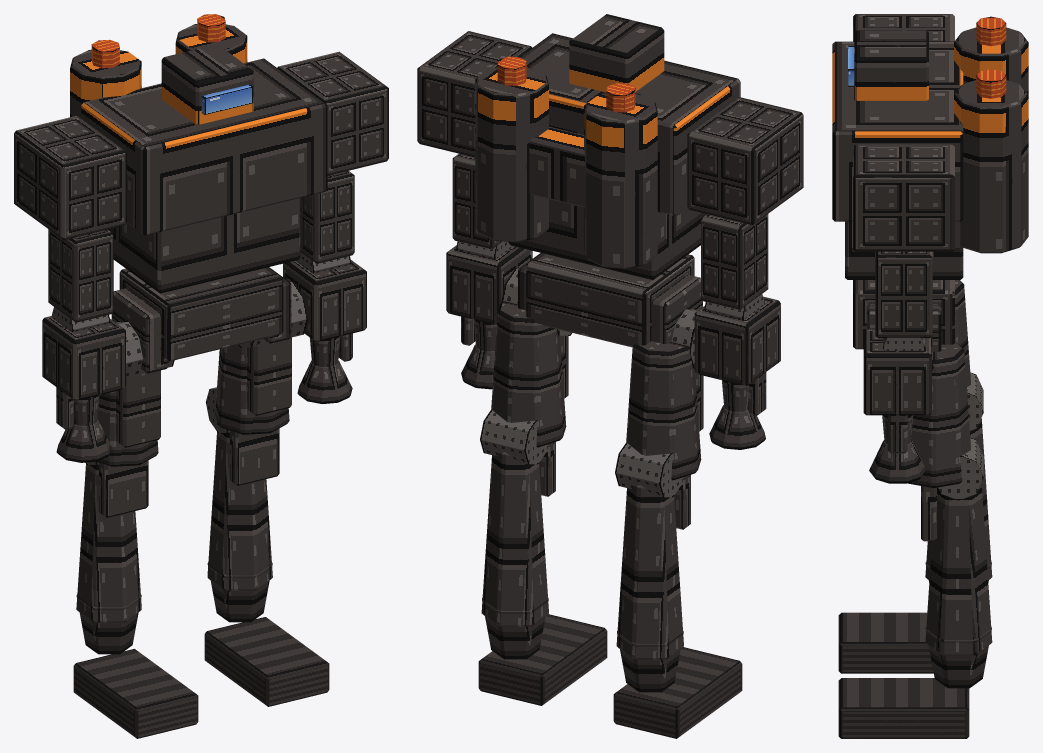
Rendered from mech_flamethrower.glb.
3 renders of one model, left to right at view 1: azimuth 30°, elevation 25°; view 2: azimuth 150°, elevation 25°; view 3: azimuth 270°, elevation 25°, orthographic. The views are drawn at different scales.
Visible parts, largest first — view 1: Torso-head, root_Pelvis, R_shoulder, R_shin, L_shin, R_forearm, L_shoulder, L_forearm, L_foot, R_foot, L_thigh, R_upper_arm (+7 smaller); view 2: Torso-head, root_Pelvis, R_shoulder, R_shin, L_shin, R_forearm, R_thigh, L_thigh, L_shoulder, L_foot, R_foot, L_forearm (+7 smaller); view 3: Torso-head, L_shin, L_shoulder, L_foot, L_forearm, L_thigh, R_foot, L_upper_arm, root_Pelvis, R_shoulder, fl_caps, L_back_knee (+4 smaller).
Part boxes in pixels (left/top/right/bottom): Torso-head: left=70, top=24, right=327, bottom=293; root_Pelvis: left=111, top=267, right=291, bottom=373; R_shoulder: left=14, top=115, right=126, bottom=239; R_shin: left=76, top=460, right=148, bottom=654; L_shin: left=207, top=428, right=279, bottom=622; R_forearm: left=42, top=316, right=125, bottom=462; L_shoulder: left=277, top=51, right=388, bottom=175; L_forearm: left=283, top=260, right=366, bottom=403; L_foot: left=204, top=617, right=329, bottom=706; R_foot: left=73, top=649, right=198, bottom=738; L_thigh: left=215, top=337, right=291, bottom=434; R_upper_arm: left=48, top=229, right=113, bottom=322; Torso-head: left=475, top=14, right=740, bottom=279; root_Pelvis: left=518, top=253, right=702, bottom=347; R_shoulder: left=687, top=97, right=803, bottom=225; R_shin: left=616, top=475, right=690, bottom=692; L_shin: left=481, top=442, right=555, bottom=659; R_forearm: left=694, top=296, right=780, bottom=449; R_thigh: left=626, top=341, right=703, bottom=480; L_thigh: left=491, top=300, right=568, bottom=447; L_shoulder: left=417, top=31, right=532, bottom=157; L_foot: left=478, top=614, right=607, bottom=705; R_foot: left=613, top=647, right=742, bottom=738; L_forearm: left=446, top=245, right=532, bottom=389; Torso-head: left=832, top=27, right=1028, bottom=279; L_shin: left=921, top=483, right=992, bottom=688; L_shoulder: left=853, top=144, right=954, bottom=251; L_foot: left=838, top=678, right=969, bottom=738; L_forearm: left=863, top=329, right=931, bottom=483; L_thigh: left=908, top=341, right=970, bottom=487; R_foot: left=838, top=612, right=933, bottom=673; L_upper_arm: left=875, top=251, right=932, bottom=338; root_Pelvis: left=853, top=280, right=954, bottom=351; R_shoulder: left=853, top=14, right=954, bottom=41; fl_caps: left=976, top=16, right=1006, bottom=98; L_back_knee: left=938, top=437, right=983, bottom=500.
Bounding box in the file's own units: 18.6 × 34.44 × 9.45.
1 material, 1 textured.
